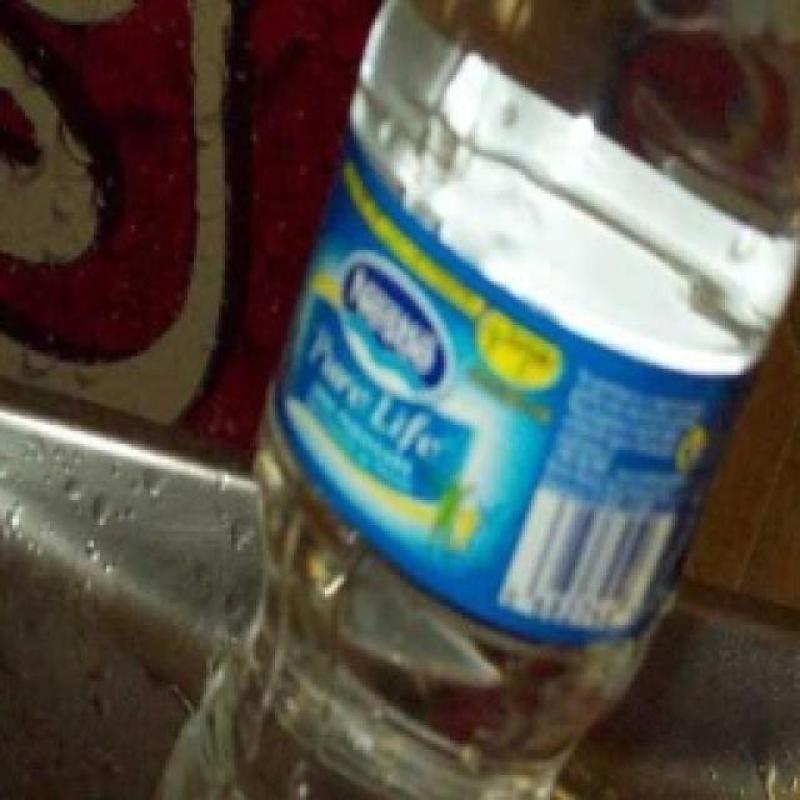botella: (156, 0, 800, 800)
